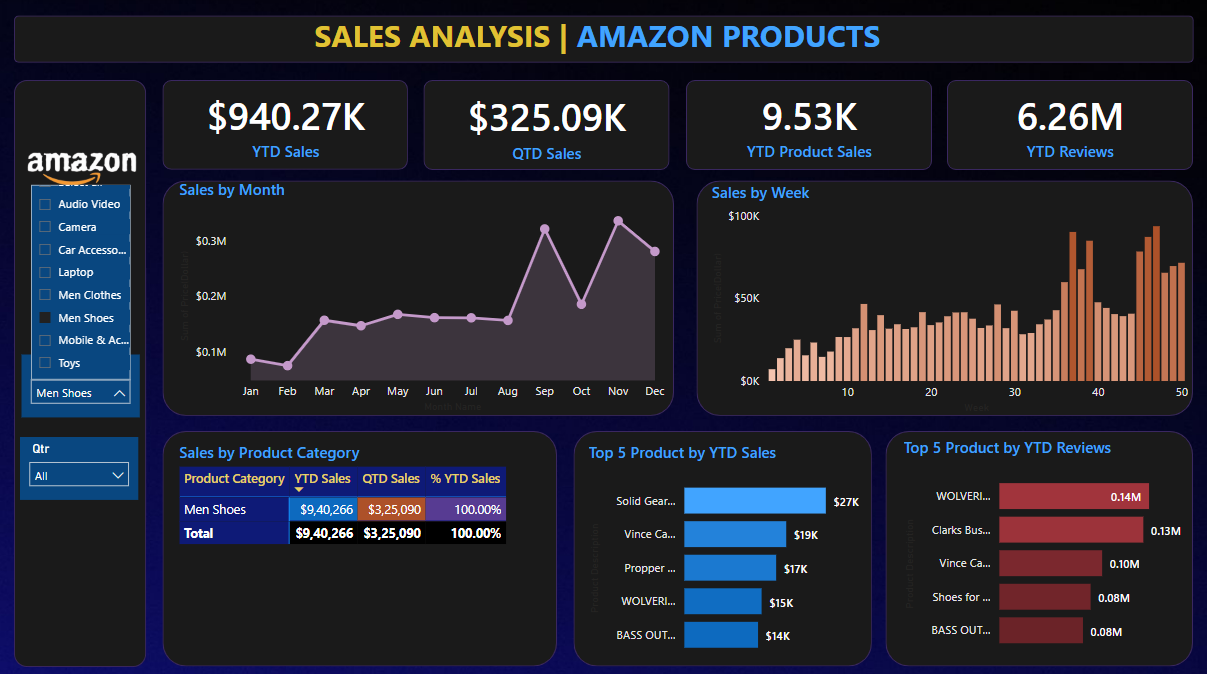

Layout of this report page (visuals, bound fields, positions):
{"tool":"powerbi","page":{"name":"Page 1","canvas":[1280,720],"ordinal":0},"visuals":[{"type":"shape","box":[15.9,17.5,1250,50],"z":0},{"type":"textbox","box":[329,11.1,624.6,62],"z":1000},{"type":"shape","box":[15.9,85.8,140,622],"z":2000},{"type":"shape","box":[173.2,85.8,260,95],"z":3000,"group":"g1"},{"type":"shape","box":[173.2,192.3,542,249.5],"z":3000},{"type":"card","fields":{"Values":["Amazon_Data.YTD Sales"]},"box":[173.2,85.8,260.7,93.8],"z":4000,"group":"g1"},{"type":"group","id":"g1","title":"Group 1","box":[173.2,85.8,1091.9,95.4],"z":4000},{"type":"shape","box":[449.8,85.8,260.7,95.4],"z":5000,"group":"g1"},{"type":"areaChart","title":"Sales by Month","fields":{"Category":["Date Table.Month Name"],"Y":["Sum(Amazon_Data.Price(Dollar))"]},"box":[186,190.7,529.3,251.1],"z":5000},{"type":"shape","box":[727.2,85.8,260.7,95.4],"z":6000,"group":"g1"},{"type":"shape","box":[739.1,192.3,526.1,249.5],"z":6000},{"type":"shape","box":[1004.5,85.8,260.7,95.4],"z":7000,"group":"g1"},{"type":"columnChart","title":"Sales by Week","fields":{"Y":["Sum(Amazon_Data.Price(Dollar))"],"Category":["Date Table.Week"]},"box":[750.2,193.9,515,249.5],"z":7000},{"type":"card","fields":{"Values":["Amazon_Data.QTD Sales"]},"box":[449.8,87.4,260.7,93.8],"z":8000,"group":"g1"},{"type":"shape","box":[173.2,457.7,418,249.5],"z":8000},{"type":"card","fields":{"Values":["Amazon_Data.YTD Product Sales"]},"box":[727.9,85.8,260.7,93.8],"z":9000,"group":"g1"},{"type":"shape","box":[608.7,457.7,316.3,249.5],"z":9000},{"type":"card","fields":{"Values":["Amazon_Data.YTD Reviews"]},"box":[1004.5,85.8,260.7,93.8],"z":10000,"group":"g1"},{"type":"shape","box":[939.3,457.7,325.8,249.5],"z":10000},{"type":"pivotTable","title":"Sales by Product Category","fields":{"Rows":["Amazon_Data.Product Category"],"Values":["Amazon_Data.YTD Sales1","Amazon_Data.QTD Sales","Amazon_Data.YTD Sales"]},"box":[186,468.9,394.2,238.4],"z":11000},{"type":"clusteredBarChart","title":"Top 5 Product by YTD Sales","fields":{"Category":["Amazon_Data.Product Description"],"Y":["Amazon_Data.YTD Sales"]},"box":[619.9,468.9,305.2,238.4],"z":12000},{"type":"clusteredBarChart","title":"Top 5 Product by YTD Reviews","fields":{"Category":["Amazon_Data.Product Description"],"Y":["Amazon_Data.YTD Reviews"]},"box":[953.6,464.1,305.2,238.4],"z":13000},{"type":"slicer","fields":{"Values":["Amazon_Data.Product Category"]},"box":[23.8,376.7,125.6,66.8],"z":14000},{"type":"slicer","fields":{"Values":["Date Table.Qtr"]},"box":[22.3,464.1,125.6,66.8],"z":15000},{"type":"image","box":[19.1,114.4,136.7,128.7],"z":16000},{"type":"textbox","box":[35,325.8,71.5,35],"z":17000}]}

Visuals, with their boxes in screenshot pixels (x1, y1, x2, y2), scaled from the page's 1280x720 canvas onto the 1207x674 screenshot:
shape: detection(15, 16, 1194, 63)
textbox: detection(310, 10, 899, 68)
shape: detection(15, 80, 147, 663)
shape: detection(163, 80, 408, 169)
shape: detection(163, 180, 674, 414)
card - Amazon_Data.YTD Sales: detection(163, 80, 409, 168)
"Group 1" group: detection(163, 80, 1193, 170)
shape: detection(424, 80, 670, 170)
"Sales by Month" areaChart: detection(175, 179, 675, 414)
shape: detection(686, 80, 932, 170)
shape: detection(697, 180, 1193, 414)
shape: detection(947, 80, 1193, 170)
"Sales by Week" columnChart: detection(707, 182, 1193, 415)
card - Amazon_Data.QTD Sales: detection(424, 82, 670, 170)
shape: detection(163, 428, 557, 662)
card - Amazon_Data.YTD Product Sales: detection(686, 80, 932, 168)
shape: detection(574, 428, 872, 662)
card - Amazon_Data.YTD Reviews: detection(947, 80, 1193, 168)
shape: detection(886, 428, 1193, 662)
"Sales by Product Category" pivotTable: detection(175, 439, 547, 662)
"Top 5 Product by YTD Sales" clusteredBarChart: detection(585, 439, 872, 662)
"Top 5 Product by YTD Reviews" clusteredBarChart: detection(899, 434, 1187, 658)
slicer - Amazon_Data.Product Category: detection(22, 353, 141, 415)
slicer - Date Table.Qtr: detection(21, 434, 139, 497)
image: detection(18, 107, 147, 228)
textbox: detection(33, 305, 100, 338)
